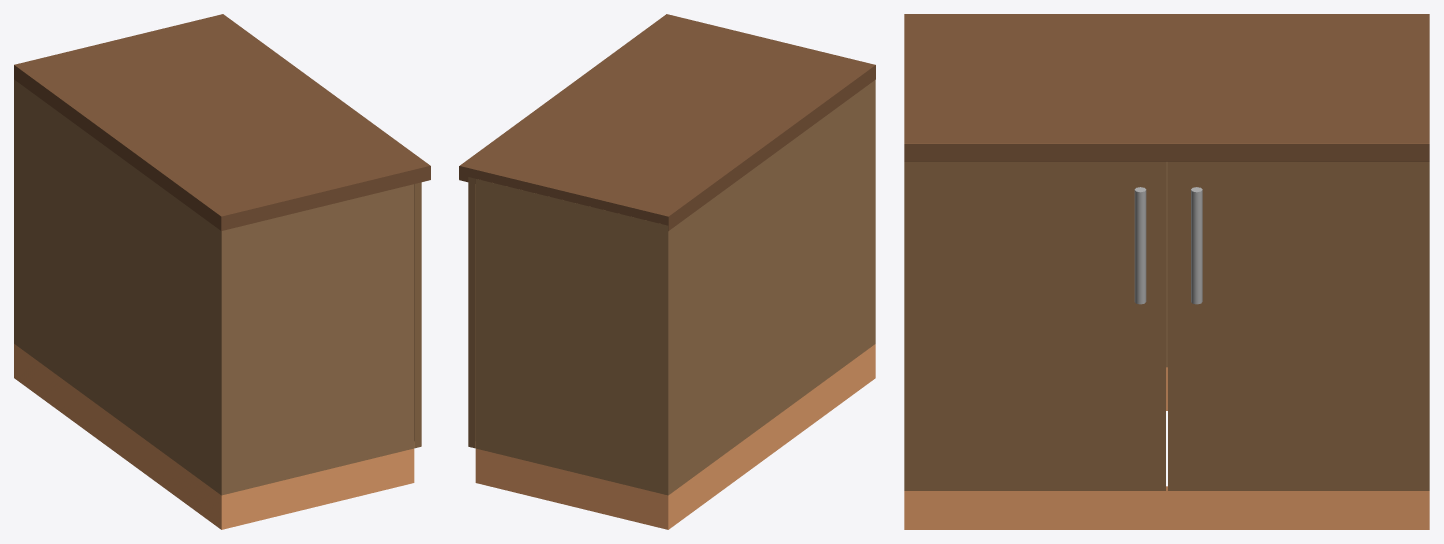
Rendered from modular_kitchen_table_2.FBX.
3 renders of one model, left to right at view 1: azimuth 30°, elevation 25°; view 2: azimuth 150°, elevation 25°; view 3: azimuth 270°, elevation 25°, orthographic. The views are drawn at different scales.
Parts seen in each view (by area): view 1: modular_kitchen_table_2; view 2: modular_kitchen_table_2; view 3: modular_kitchen_table_2.
Part boxes in pixels (bbox=[...]): modular_kitchen_table_2: bbox=[14, 14, 430, 529]; modular_kitchen_table_2: bbox=[459, 14, 875, 529]; modular_kitchen_table_2: bbox=[904, 14, 1429, 529].
Bounding box in the file's own units: 0.6217 × 0.8567 × 1.03.
